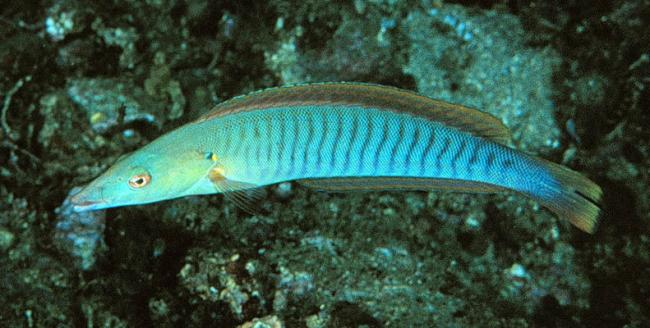fish: (70, 81, 603, 234)
